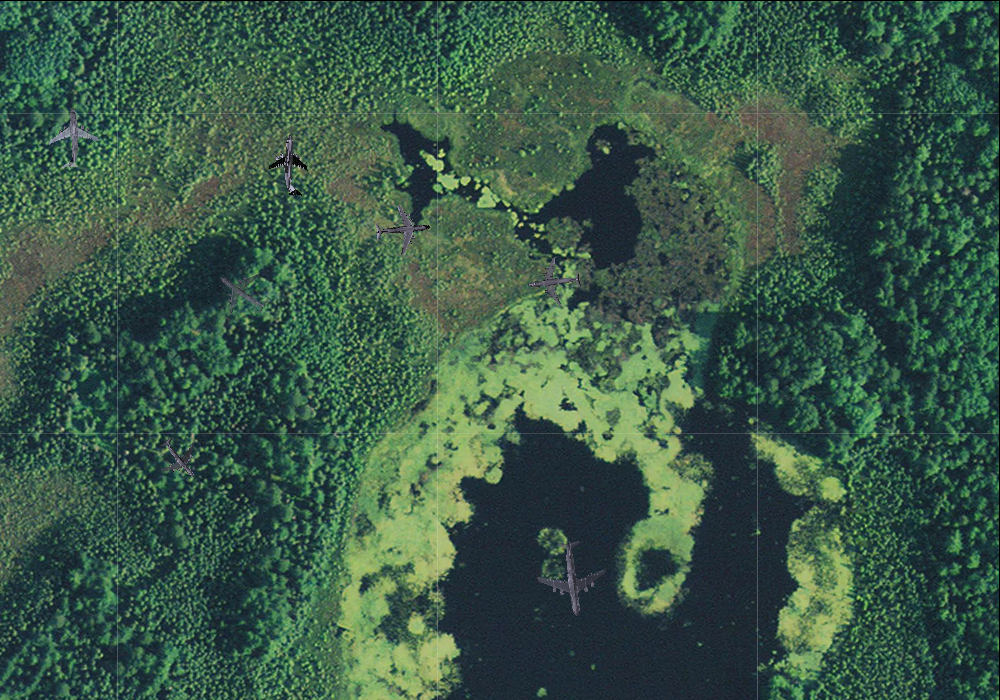plane: (532, 536, 613, 620), (205, 255, 280, 329), (147, 427, 211, 490), (41, 105, 101, 170), (264, 133, 318, 197), (525, 253, 584, 310), (372, 201, 432, 257)
